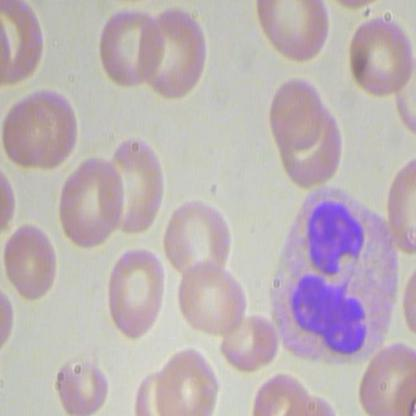RBC: (136, 7, 210, 102), (55, 155, 125, 254), (101, 136, 171, 235), (98, 1, 166, 96), (174, 254, 248, 341), (161, 195, 234, 282), (103, 245, 166, 341), (347, 11, 413, 101), (3, 216, 58, 307), (266, 74, 324, 150), (1, 97, 58, 173), (216, 313, 281, 374), (54, 346, 108, 415)
WBC: (249, 178, 406, 376)
